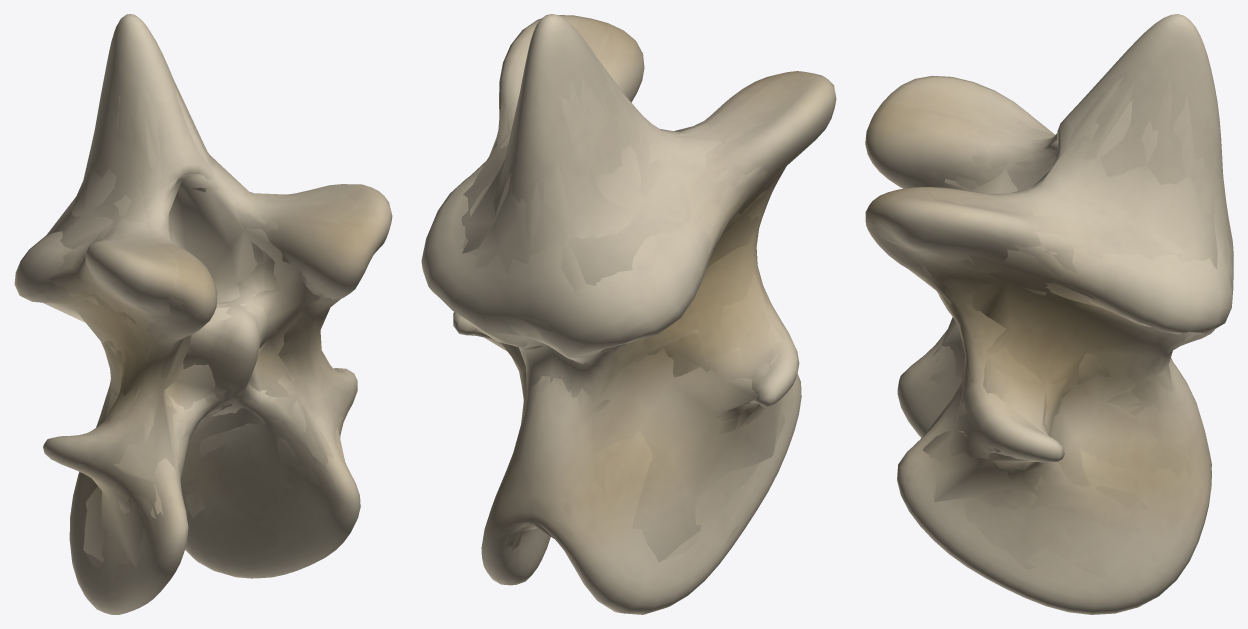
File: vertebra cervicalis 6.fbx
The picture shows the model from 3 angles, left to right: view 1: azimuth 30°, elevation 25°; view 2: azimuth 150°, elevation 25°; view 3: azimuth 270°, elevation 25°; orthographic projection. The views are drawn at different scales.
Visible parts, largest first — view 1: vertebra cervicalis 6 high, vertebra cervicalis 6 low, vertebra cervicalis 6; view 2: vertebra cervicalis 6 high, vertebra cervicalis 6 low, vertebra cervicalis 6; view 3: vertebra cervicalis 6 high, vertebra cervicalis 6 low, vertebra cervicalis 6.
Boxes of the visible parts, bbox=[...] form: vertebra cervicalis 6 high: bbox=[14, 14, 392, 614]; vertebra cervicalis 6 low: bbox=[43, 83, 344, 566]; vertebra cervicalis 6: bbox=[48, 72, 371, 597]; vertebra cervicalis 6 high: bbox=[421, 14, 836, 614]; vertebra cervicalis 6 low: bbox=[461, 76, 786, 562]; vertebra cervicalis 6: bbox=[459, 27, 792, 559]; vertebra cervicalis 6 high: bbox=[865, 14, 1233, 614]; vertebra cervicalis 6 low: bbox=[922, 76, 1226, 551]; vertebra cervicalis 6: bbox=[879, 79, 1231, 577].
Bounding box in the file's own units: 4.82 × 8.43 × 4.98.
Materials: 1 (1 with a texture image).
